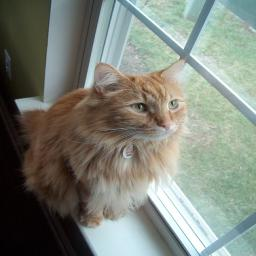catnose: (158, 118, 173, 131)
